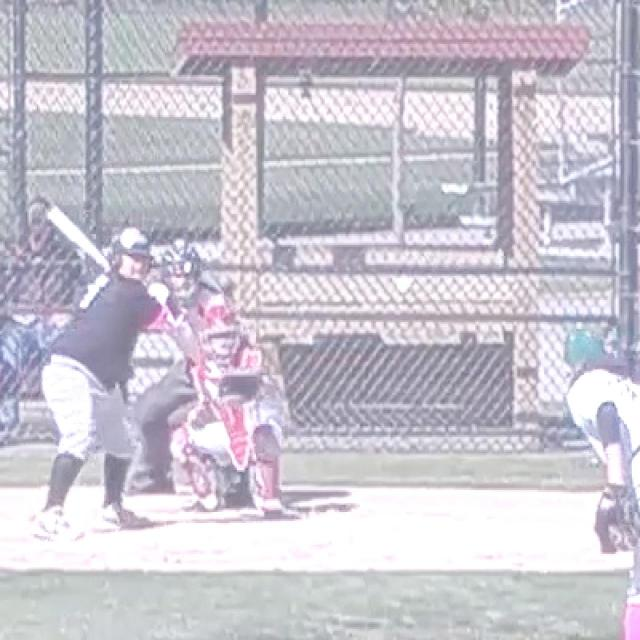baseball: (397, 276, 409, 292)
